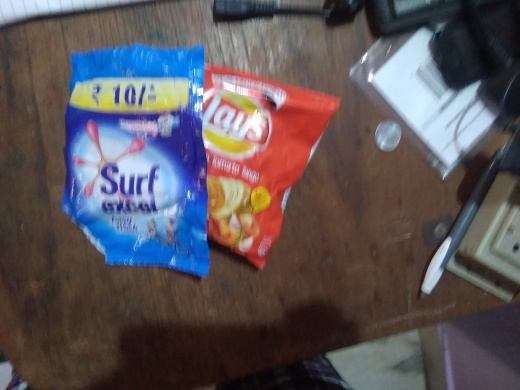lays: (195, 54, 344, 277)
surf: (53, 43, 219, 280)
